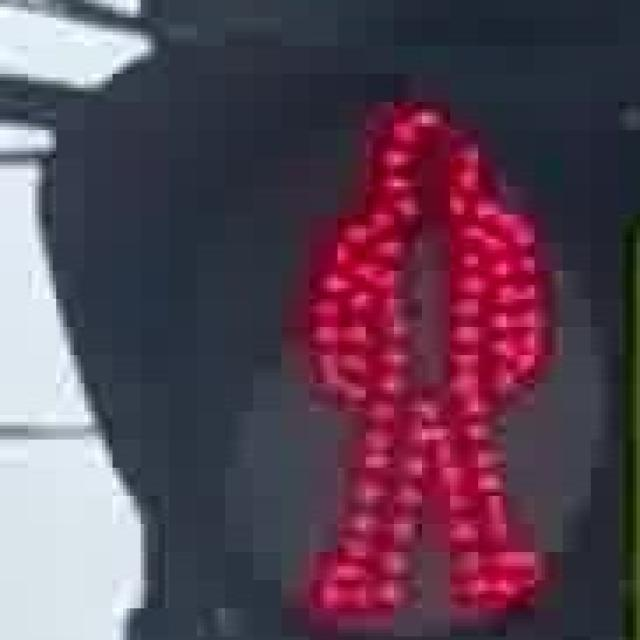red-light: (272, 65, 564, 631)
